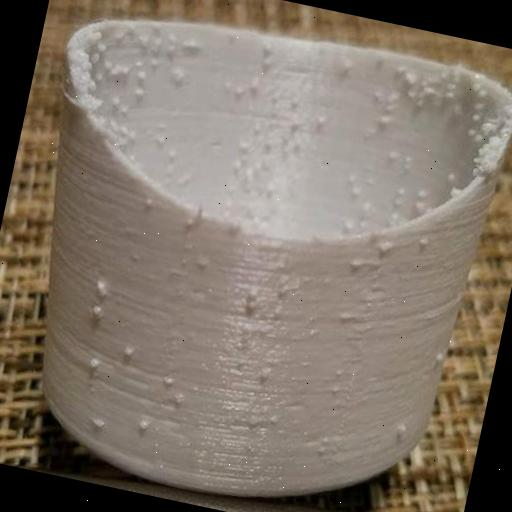blobs: (46, 276, 214, 454), (66, 12, 203, 144), (213, 64, 311, 182), (336, 224, 434, 318), (121, 193, 228, 279), (340, 62, 434, 152), (379, 410, 416, 457)
